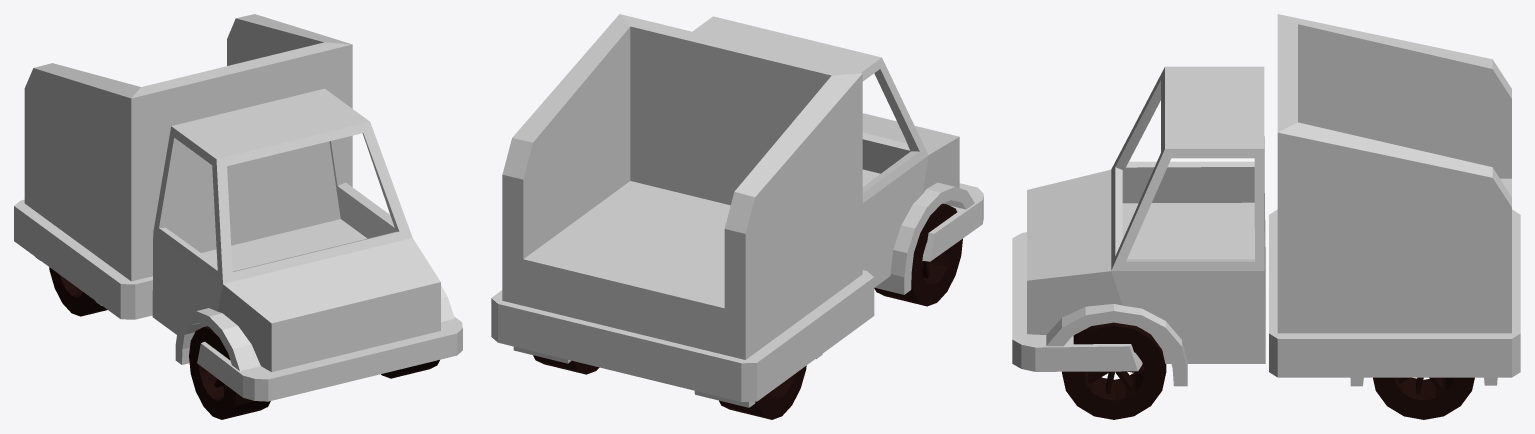
The model's file is Van.fbx.
3 renders of one model, left to right at view 1: azimuth 30°, elevation 25°; view 2: azimuth 150°, elevation 25°; view 3: azimuth 270°, elevation 25°, orthographic. The views are drawn at different scales.
Visible parts, largest first — view 1: Cube.013, Cube.014, Cylinder.004, Cylinder.003, Cylinder.010; view 2: Cube.014, Cube.013, Cylinder.004, Cylinder.003, Cylinder.010, Cylinder.014; view 3: Cube.014, Cube.013, Cylinder.011, Cylinder.004, Cylinder.014.
Part boxes in pixels (x1,y1,x2,y2): Cube.013: (152, 88, 462, 401); Cube.014: (14, 14, 352, 319); Cylinder.004: (35, 257, 454, 371); Cylinder.003: (189, 326, 270, 419); Cylinder.010: (49, 267, 107, 316); Cube.014: (491, 14, 874, 401); Cube.013: (692, 16, 983, 287); Cylinder.004: (513, 182, 974, 407); Cylinder.003: (874, 203, 962, 306); Cylinder.010: (719, 365, 806, 419); Cylinder.014: (533, 355, 599, 374); Cube.014: (1269, 14, 1520, 377); Cube.013: (1012, 66, 1265, 371); Cylinder.011: (1062, 322, 1166, 419); Cylinder.004: (1046, 304, 1497, 386); Cylinder.014: (1373, 377, 1474, 419).
Bounding box in the file's own units: 262 × 274 × 434.
